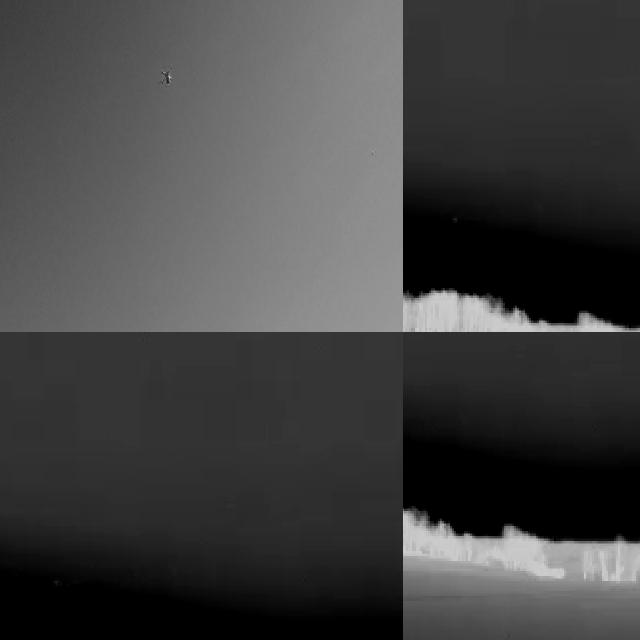0: (441, 206, 471, 238), (42, 569, 72, 601)
drone: (158, 57, 177, 91)
